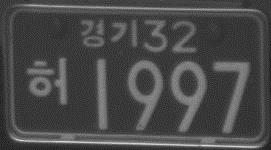1: (93, 55, 113, 133)
2: (171, 19, 198, 54)
3: (143, 17, 169, 53)
7: (208, 60, 252, 135)
9: (126, 58, 165, 133), (169, 59, 208, 133)
경기_O: (78, 18, 139, 50)
허: (23, 55, 70, 105)
